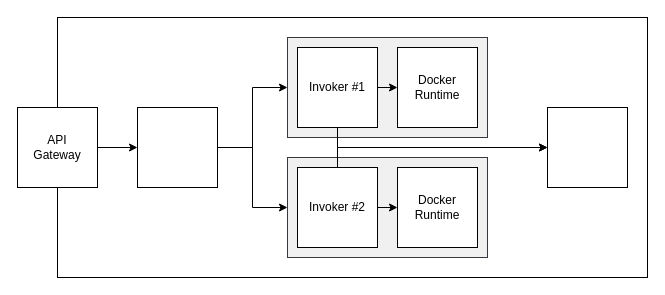
This 665x295 diagram has some shape labels left out. Here are the shapes that lost their labels. From the top down, the centre of each, then its label:
At point 177,147: "Load Balancer".
At point 587,147: "Function Store".
